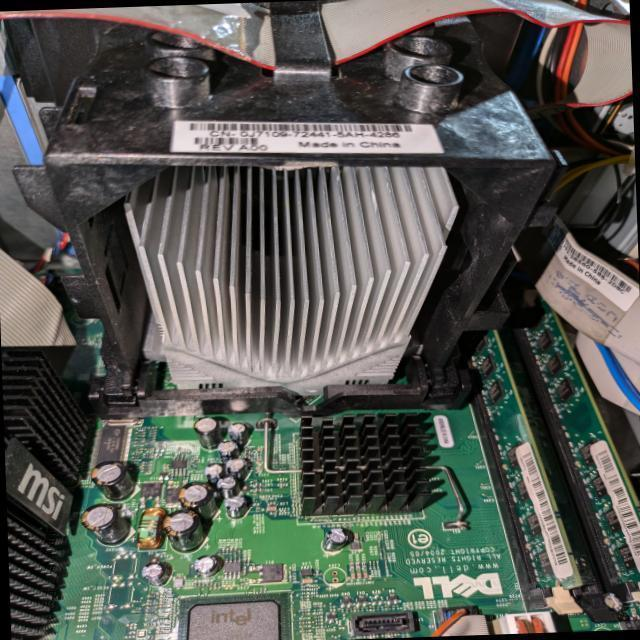CPU_Fan: (113, 149, 470, 398)
Mainboard: (0, 246, 640, 640)
RAM: (523, 310, 640, 586), (469, 325, 582, 592)
